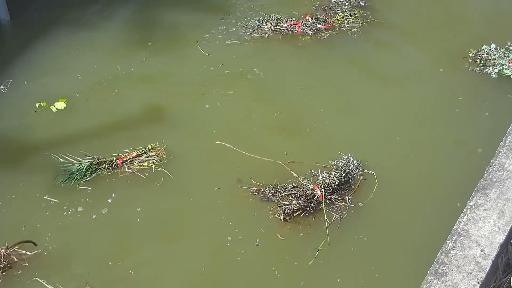leaf: (28, 98, 77, 115)
twig: (204, 138, 394, 260), (63, 131, 177, 197), (215, 11, 383, 51), (0, 224, 49, 277), (461, 38, 512, 77), (27, 268, 111, 285), (307, 0, 405, 11)
